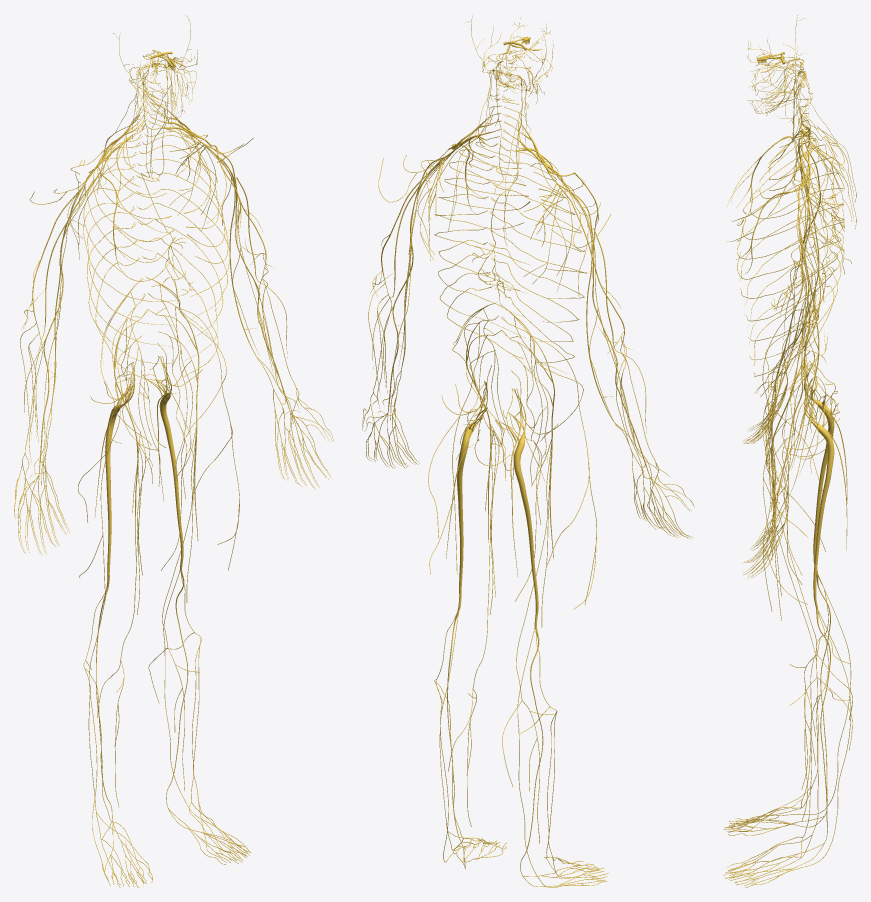
The model's file is nerves.glb.
3 renders of one model, left to right at view 1: azimuth 30°, elevation 25°; view 2: azimuth 150°, elevation 25°; view 3: azimuth 270°, elevation 25°, orthographic. The views are drawn at different scales.
Parts seen in each view (by area): view 1: nerves-9daa6cc5017f, nerves-f1d21b4ce118, nerves-c85282deea82, nerves-252b39f05350; view 2: nerves-f1d21b4ce118, nerves-9daa6cc5017f, nerves-c85282deea82, nerves-252b39f05350; view 3: nerves-f1d21b4ce118, nerves-9daa6cc5017f, nerves-252b39f05350, nerves-c85282deea82, nerves-22e938aea045, nerves-03ae5f4eeb3b, nerves-1fb5cfe4ef87, nerves-6ac62e71c269, nerves-b50e8234ce8f, nerves-6e355adbbd22, nerves-6918c6f57ead, nerves-7c17d5e5c5b4 (+8 smaller).
Boxes of the visible parts, <box> form: nerves-9daa6cc5017f: <box>83,132,175,380</box>; nerves-f1d21b4ce118: <box>142,128,230,377</box>; nerves-c85282deea82: <box>105,362,134,585</box>; nerves-252b39f05350: <box>147,356,183,567</box>; nerves-f1d21b4ce118: <box>434,141,529,358</box>; nerves-9daa6cc5017f: <box>495,149,587,363</box>; nerves-c85282deea82: <box>500,388,538,623</box>; nerves-252b39f05350: <box>457,381,486,605</box>; nerves-f1d21b4ce118: <box>737,147,844,376</box>; nerves-9daa6cc5017f: <box>737,135,844,365</box>; nerves-252b39f05350: <box>804,378,834,607</box>; nerves-c85282deea82: <box>804,364,834,571</box>; nerves-22e938aea045: <box>768,448,852,821</box>; nerves-03ae5f4eeb3b: <box>768,418,852,789</box>; nerves-1fb5cfe4ef87: <box>762,334,825,611</box>; nerves-6ac62e71c269: <box>776,192,809,502</box>; nerves-b50e8234ce8f: <box>771,70,819,315</box>; nerves-6e355adbbd22: <box>784,185,819,473</box>; nerves-6918c6f57ead: <box>762,309,825,549</box>; nerves-7c17d5e5c5b4: <box>771,313,810,559</box>.
Size of the model in its own units: 0.6675 by 1.66 by 0.2426.
